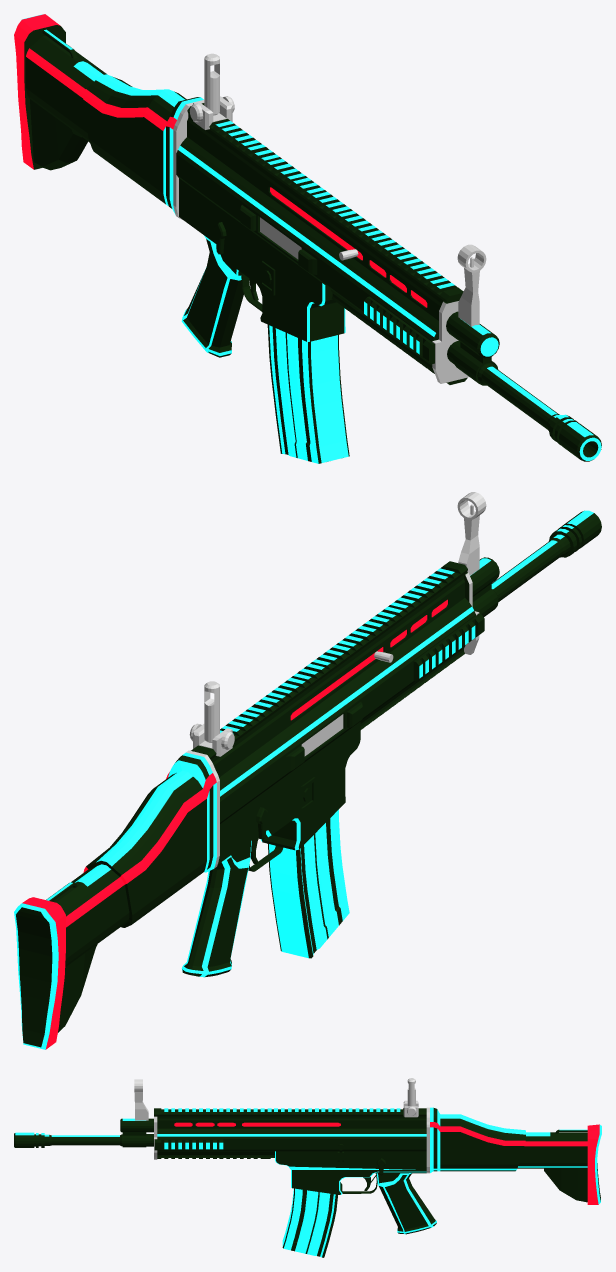
The model's file is Cyber Rifle.fbx.
The picture shows the model from 3 angles, top to bottom: view 1: azimuth 30°, elevation 25°; view 2: azimuth 150°, elevation 25°; view 3: azimuth 270°, elevation 25°; orthographic projection. The views are drawn at different scales.
Parts seen in each view (by area): view 1: Cube, Cube.002, Cube.003, Cube.004, Cube.001, Cylinder; view 2: Cube, Cube.002, Cube.003, Cube.001, Cylinder, Cube.004; view 3: Cube, Cube.002, Cube.003, Cube.001, Cube.004.
Boxes of the visible parts, bbox=[...] form: Cube: bbox=[14, 14, 601, 461]; Cube.002: bbox=[267, 325, 349, 463]; Cube.003: bbox=[189, 53, 486, 326]; Cube.004: bbox=[173, 100, 468, 383]; Cube.001: bbox=[270, 187, 427, 307]; Cylinder: bbox=[260, 217, 358, 260]; Cube: bbox=[14, 510, 601, 1049]; Cube.002: bbox=[268, 809, 349, 958]; Cube.003: bbox=[189, 492, 486, 756]; Cube.001: bbox=[290, 599, 447, 720]; Cylinder: bbox=[301, 651, 393, 756]; Cube.004: bbox=[186, 572, 479, 868]; Cube: bbox=[14, 1107, 601, 1234]; Cube.002: bbox=[282, 1188, 337, 1257]; Cube.003: bbox=[134, 1078, 418, 1120]; Cube.001: bbox=[174, 1122, 340, 1126]; Cube.004: bbox=[154, 1107, 429, 1173].
Bounding box in the file's own units: 53.25 × 305 × 930.
